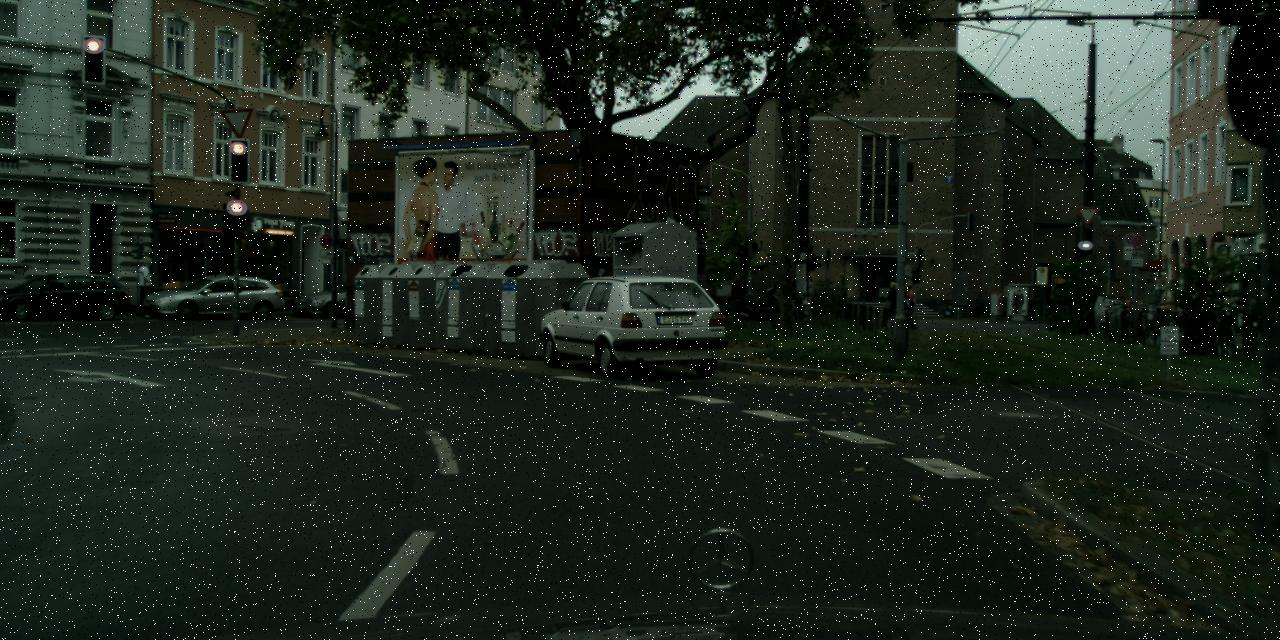ped: (728, 273, 748, 321), (880, 282, 899, 328), (899, 285, 918, 329), (138, 260, 156, 306), (804, 276, 816, 304)
